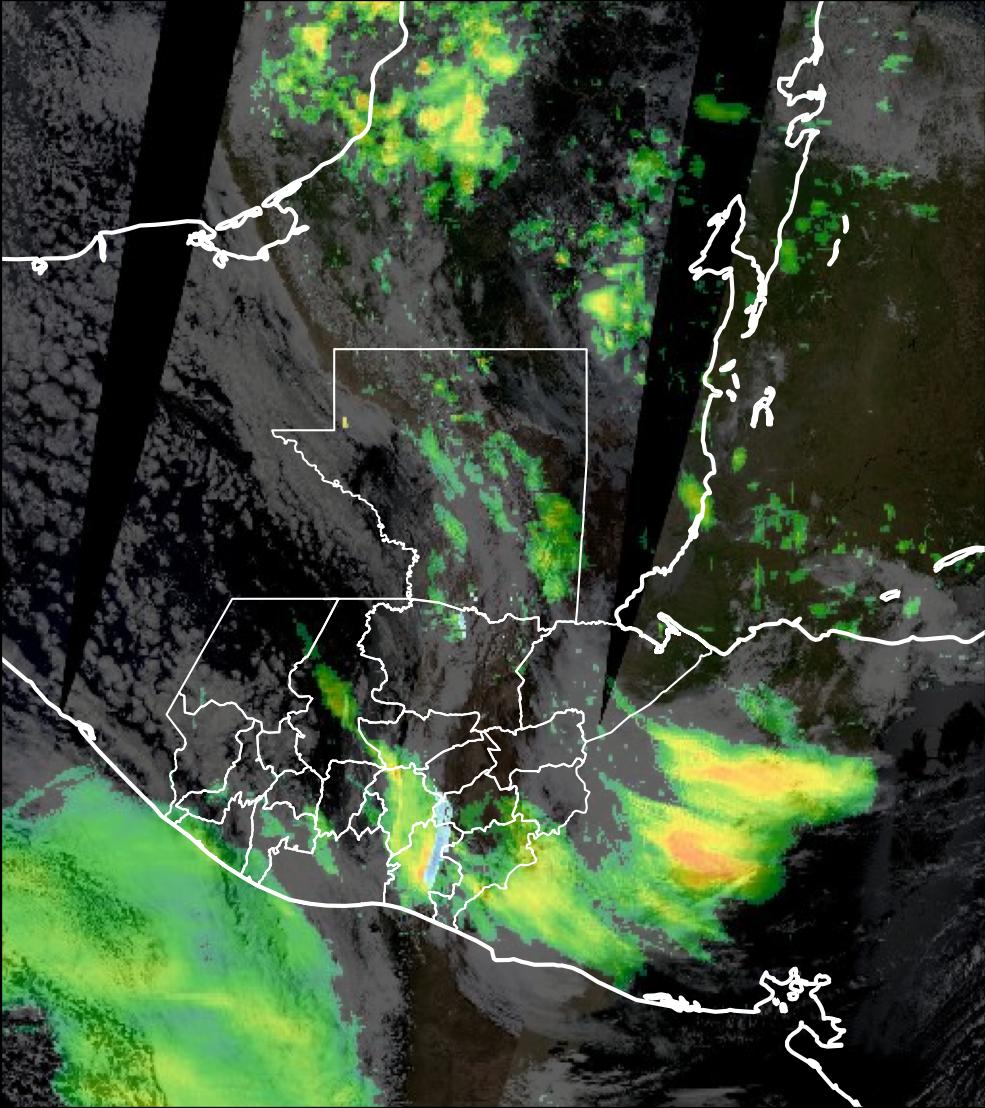precipitacion: (656, 813, 763, 906)
